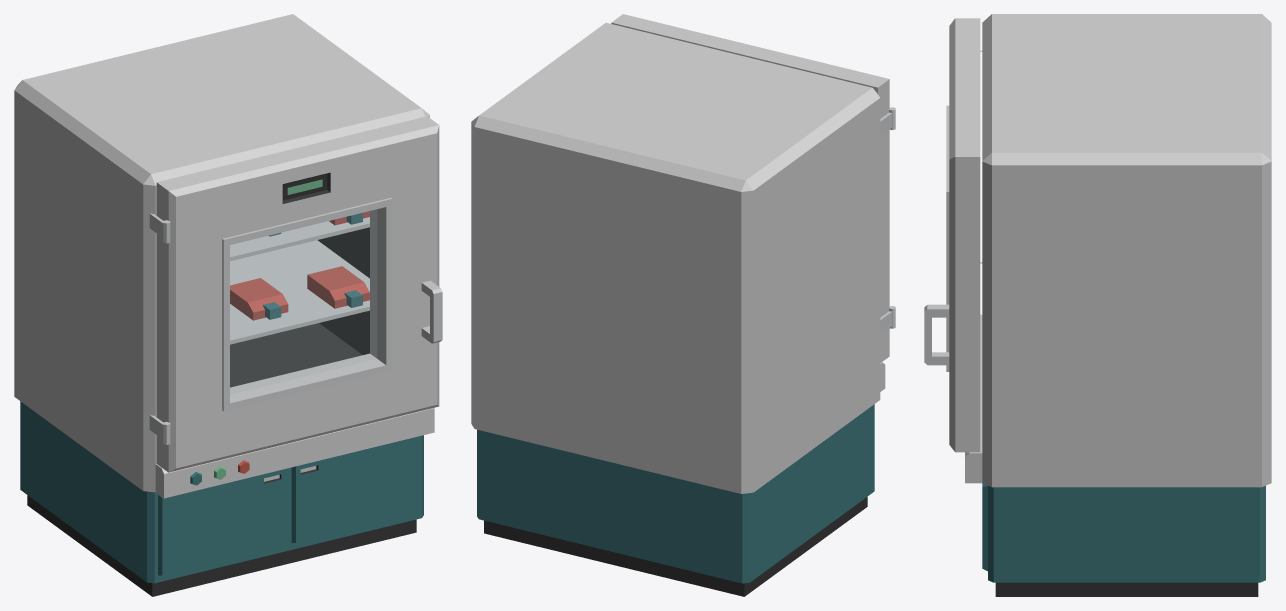
File: co2-incubator-198c16.glb
The picture shows the model from 3 angles, left to right: view 1: azimuth 30°, elevation 25°; view 2: azimuth 150°, elevation 25°; view 3: azimuth 270°, elevation 25°; orthographic projection. The views are drawn at different scales.
Visible parts, largest first — view 1: body, door-panel, door-glass, flasks; view 2: body, door-panel; view 3: body, door-panel.
Part boxes in pixels (left/top/right/bottom): body: left=14, top=14, right=434, bottom=596; door-panel: left=156, top=116, right=442, bottom=472; door-glass: left=230, top=210, right=376, bottom=393; flasks: left=230, top=211, right=369, bottom=320; body: left=471, top=22, right=895, bottom=596; door-panel: left=611, top=14, right=889, bottom=362; body: left=965, top=14, right=1271, bottom=596; door-panel: left=924, top=18, right=980, bottom=452.
Bounding box in the file's own units: 0.9 × 1.27 × 0.9.
